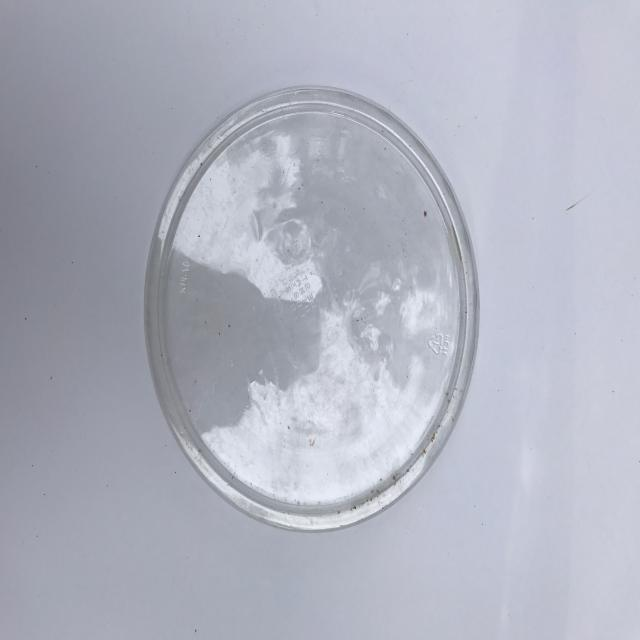plastic: (143, 85, 480, 531)
